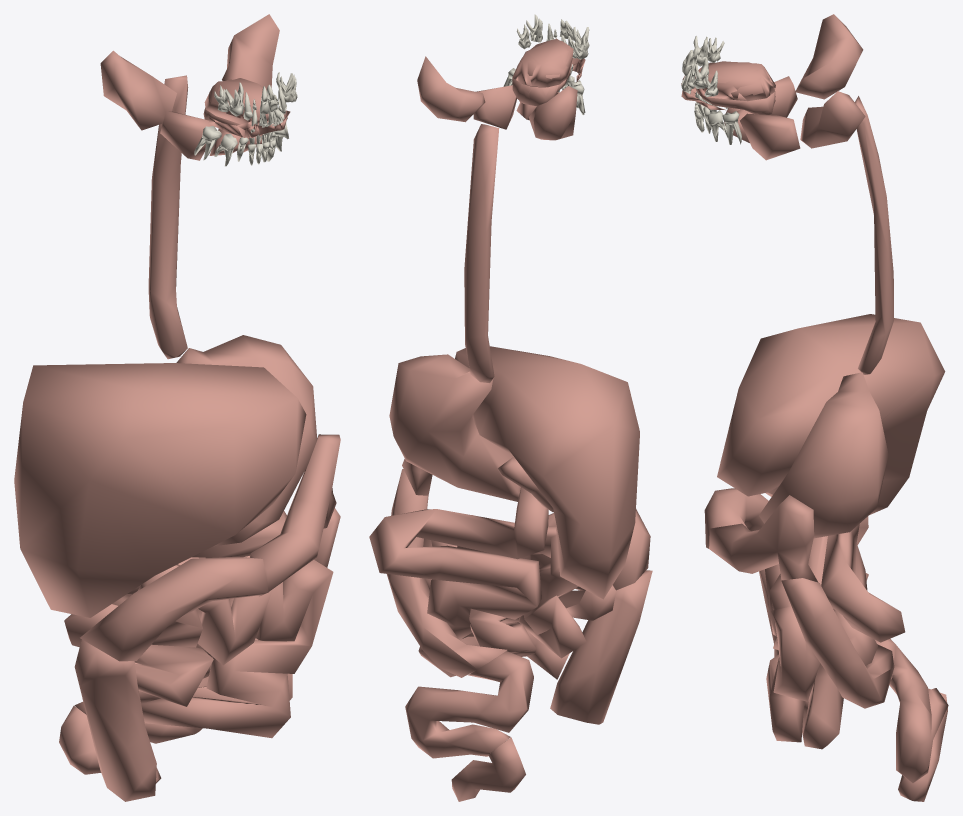
File: pediatric_infant_female.digestive.LOD3.glb
3 renders of one model, left to right at view 1: azimuth 30°, elevation 25°; view 2: azimuth 150°, elevation 25°; view 3: azimuth 270°, elevation 25°, orthographic. The views are drawn at different scales.
Parts seen in each view (by area): view 1: PEDIATRIC.INFANT.FEMALE.DIGESTIVE.LIVER, PEDIATRIC.INFANT.FEMALE.DIGESTIVE.SMALL_INTESTINE_WALL, PEDIATRIC.INFANT.FEMALE.DIGESTIVE.TRANSVERSE_COLON_WALL.R, PEDIATRIC.INFANT.FEMALE.DIGESTIVE.ASCENDING_COLON_WALL, PEDIATRIC.INFANT.FEMALE.DIGESTIVE.OESOPHAGUS_WALL, PEDIATRIC.INFANT.FEMALE.DIGESTIVE.TRANSVERSE_COLON_WALL.L, PEDIATRIC.INFANT.FEMALE.DIGESTIVE.STOMACH_WALL, PEDIATRIC.INFANT.FEMALE.DIGESTIVE.SALIVARY_GLANDS.R, PEDIATRIC.INFANT.FEMALE.DIGESTIVE.SALIVARY_GLANDS.L, PEDIATRIC.INFANT.FEMALE.DIGESTIVE.RECTUM_WALL, PEDIATRIC.INFANT.FEMALE.DIGESTIVE.DECIDUOUS_CEMENTUM, PEDIATRIC.INFANT.FEMALE.DIGESTIVE.ORAL_MUCOSA_MOUTH_FLOOR (+5 smaller); view 2: PEDIATRIC.INFANT.FEMALE.DIGESTIVE.LIVER, PEDIATRIC.INFANT.FEMALE.DIGESTIVE.SMALL_INTESTINE_WALL, PEDIATRIC.INFANT.FEMALE.DIGESTIVE.STOMACH_WALL, PEDIATRIC.INFANT.FEMALE.DIGESTIVE.SIGMOID_COLON_WALL, PEDIATRIC.INFANT.FEMALE.DIGESTIVE.ASCENDING_COLON_WALL, PEDIATRIC.INFANT.FEMALE.DIGESTIVE.OESOPHAGUS_WALL, PEDIATRIC.INFANT.FEMALE.DIGESTIVE.DESCENDING_COLON_WALL, PEDIATRIC.INFANT.FEMALE.DIGESTIVE.SALIVARY_GLANDS.L, PEDIATRIC.INFANT.FEMALE.DIGESTIVE.RECTUM_WALL, PEDIATRIC.INFANT.FEMALE.DIGESTIVE.SALIVARY_GLANDS.R, PEDIATRIC.INFANT.FEMALE.DIGESTIVE.ORAL_MUCOSA_MOUTH_FLOOR, PEDIATRIC.INFANT.FEMALE.DIGESTIVE.TRANSVERSE_COLON_WALL.R (+5 smaller); view 3: PEDIATRIC.INFANT.FEMALE.DIGESTIVE.LIVER, PEDIATRIC.INFANT.FEMALE.DIGESTIVE.SMALL_INTESTINE_WALL, PEDIATRIC.INFANT.FEMALE.DIGESTIVE.STOMACH_WALL, PEDIATRIC.INFANT.FEMALE.DIGESTIVE.DESCENDING_COLON_WALL, PEDIATRIC.INFANT.FEMALE.DIGESTIVE.TRANSVERSE_COLON_WALL.L, PEDIATRIC.INFANT.FEMALE.DIGESTIVE.SIGMOID_COLON_WALL, PEDIATRIC.INFANT.FEMALE.DIGESTIVE.SALIVARY_GLANDS.L, PEDIATRIC.INFANT.FEMALE.DIGESTIVE.OESOPHAGUS_WALL, PEDIATRIC.INFANT.FEMALE.DIGESTIVE.SALIVARY_GLANDS.R, PEDIATRIC.INFANT.FEMALE.DIGESTIVE.TRANSVERSE_COLON_WALL.R, PEDIATRIC.INFANT.FEMALE.DIGESTIVE.ORAL_MUCOSA_MOUTH_FLOOR, PEDIATRIC.INFANT.FEMALE.DIGESTIVE.DECIDUOUS_CEMENTUM (+5 smaller).
Boxes of the visible parts, x1,y1,x2,y2 form: PEDIATRIC.INFANT.FEMALE.DIGESTIVE.LIVER: (14,363,306,617); PEDIATRIC.INFANT.FEMALE.DIGESTIVE.SMALL_INTESTINE_WALL: (64,511,333,738); PEDIATRIC.INFANT.FEMALE.DIGESTIVE.TRANSVERSE_COLON_WALL.R: (80,556,268,661); PEDIATRIC.INFANT.FEMALE.DIGESTIVE.ASCENDING_COLON_WALL: (74,639,156,801); PEDIATRIC.INFANT.FEMALE.DIGESTIVE.OESOPHAGUS_WALL: (148,75,188,359); PEDIATRIC.INFANT.FEMALE.DIGESTIVE.TRANSVERSE_COLON_WALL.L: (250,434,340,596); PEDIATRIC.INFANT.FEMALE.DIGESTIVE.STOMACH_WALL: (176,335,317,546); PEDIATRIC.INFANT.FEMALE.DIGESTIVE.SALIVARY_GLANDS.R: (100,50,245,160); PEDIATRIC.INFANT.FEMALE.DIGESTIVE.SALIVARY_GLANDS.L: (222,14,279,152); PEDIATRIC.INFANT.FEMALE.DIGESTIVE.RECTUM_WALL: (59,706,161,783); PEDIATRIC.INFANT.FEMALE.DIGESTIVE.DECIDUOUS_CEMENTUM: (194,72,296,166); PEDIATRIC.INFANT.FEMALE.DIGESTIVE.ORAL_MUCOSA_MOUTH_FLOOR: (204,78,268,125); PEDIATRIC.INFANT.FEMALE.DIGESTIVE.LIVER: (455,346,639,599); PEDIATRIC.INFANT.FEMALE.DIGESTIVE.SMALL_INTESTINE_WALL: (369,487,616,679); PEDIATRIC.INFANT.FEMALE.DIGESTIVE.STOMACH_WALL: (389,354,520,501); PEDIATRIC.INFANT.FEMALE.DIGESTIVE.SIGMOID_COLON_WALL: (405,651,533,758); PEDIATRIC.INFANT.FEMALE.DIGESTIVE.ASCENDING_COLON_WALL: (550,570,652,724); PEDIATRIC.INFANT.FEMALE.DIGESTIVE.OESOPHAGUS_WALL: (464,124,499,382); PEDIATRIC.INFANT.FEMALE.DIGESTIVE.DESCENDING_COLON_WALL: (387,469,507,677); PEDIATRIC.INFANT.FEMALE.DIGESTIVE.SALIVARY_GLANDS.L: (417,56,536,129); PEDIATRIC.INFANT.FEMALE.DIGESTIVE.RECTUM_WALL: (451,737,525,801); PEDIATRIC.INFANT.FEMALE.DIGESTIVE.SALIVARY_GLANDS.R: (529,86,577,140); PEDIATRIC.INFANT.FEMALE.DIGESTIVE.ORAL_MUCOSA_MOUTH_FLOOR: (512,38,573,87); PEDIATRIC.INFANT.FEMALE.DIGESTIVE.TRANSVERSE_COLON_WALL.R: (613,509,650,590); PEDIATRIC.INFANT.FEMALE.DIGESTIVE.LIVER: (717,314,945,515); PEDIATRIC.INFANT.FEMALE.DIGESTIVE.SMALL_INTESTINE_WALL: (765,516,905,749); PEDIATRIC.INFANT.FEMALE.DIGESTIVE.STOMACH_WALL: (759,372,888,538); PEDIATRIC.INFANT.FEMALE.DIGESTIVE.DESCENDING_COLON_WALL: (781,578,894,708); PEDIATRIC.INFANT.FEMALE.DIGESTIVE.TRANSVERSE_COLON_WALL.L: (709,495,818,582); PEDIATRIC.INFANT.FEMALE.DIGESTIVE.SIGMOID_COLON_WALL: (875,638,948,782); PEDIATRIC.INFANT.FEMALE.DIGESTIVE.SALIVARY_GLANDS.L: (724,91,865,160); PEDIATRIC.INFANT.FEMALE.DIGESTIVE.OESOPHAGUS_WALL: (855,96,893,374); PEDIATRIC.INFANT.FEMALE.DIGESTIVE.SALIVARY_GLANDS.R: (725,14,863,117); PEDIATRIC.INFANT.FEMALE.DIGESTIVE.TRANSVERSE_COLON_WALL.R: (704,488,768,548); PEDIATRIC.INFANT.FEMALE.DIGESTIVE.ORAL_MUCOSA_MOUTH_FLOOR: (695,61,775,101); PEDIATRIC.INFANT.FEMALE.DIGESTIVE.DECIDUOUS_CEMENTUM: (682,36,741,144).
Bounding box in the file's own units: 0.1362 × 0.3666 × 0.1176.
